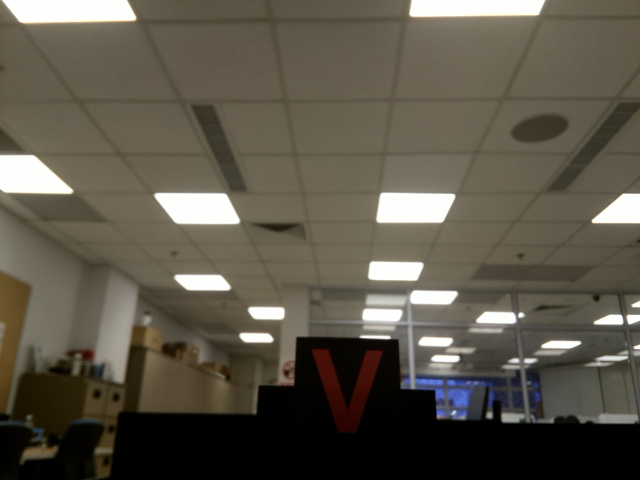v: (308, 349, 396, 439)
